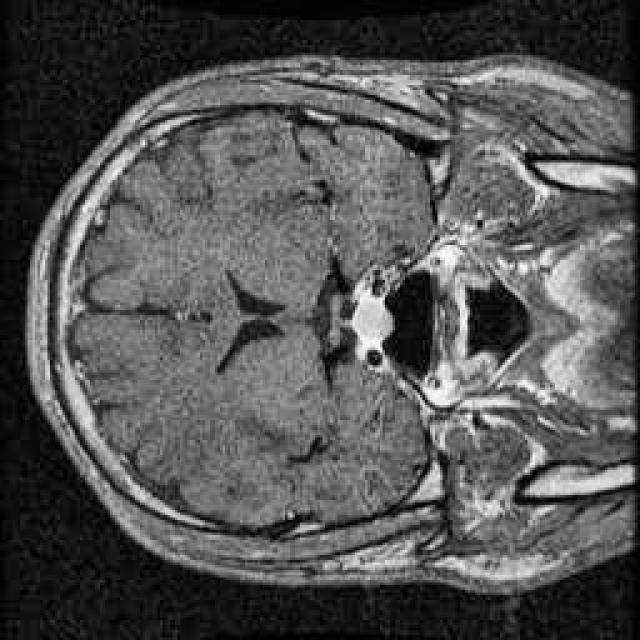Tumor: (342, 282, 410, 362)
